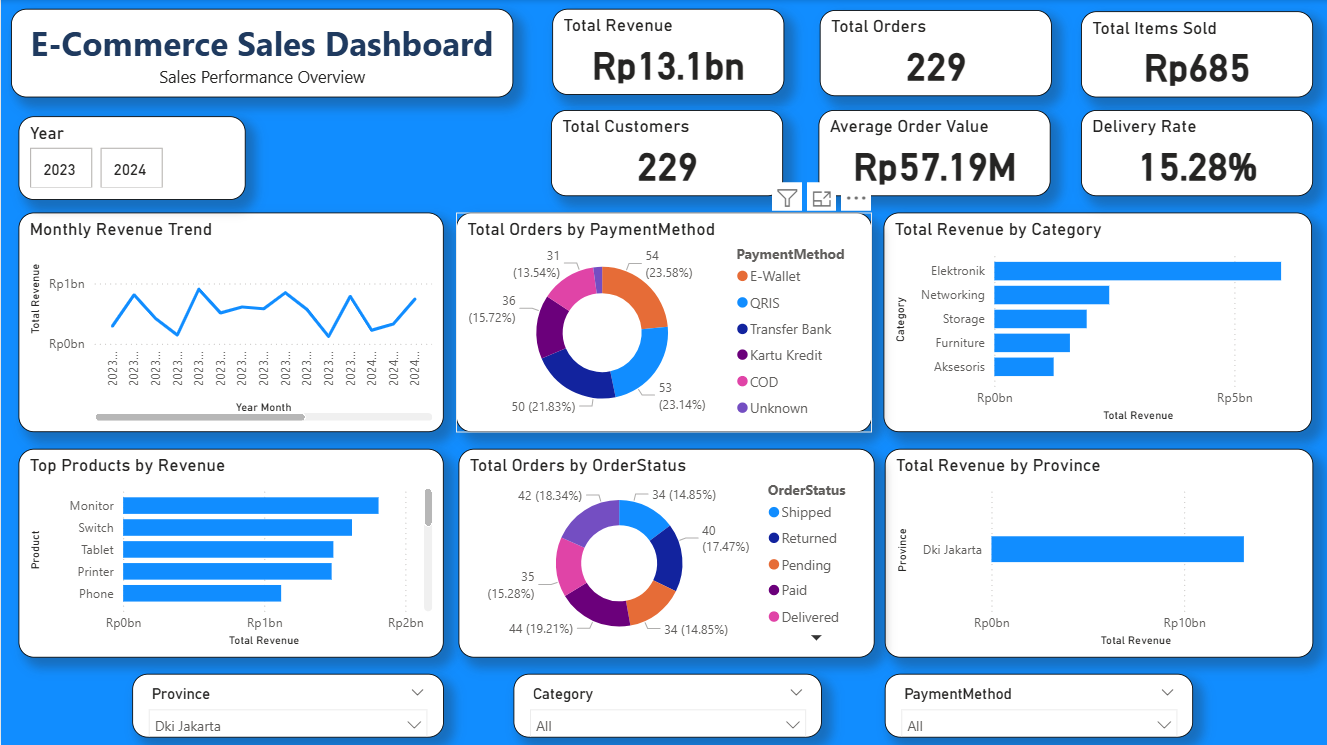

Layout of this report page (visuals, bound fields, positions):
{"tool":"powerbi","page":{"name":"ESD","canvas":[1280,720],"ordinal":0},"visuals":[{"type":"textbox","box":[9.7,8.4,485,85.7],"z":0},{"type":"card","title":"Total Revenue","fields":{"Values":["Sales.Total Revenue"]},"box":[531.8,8.7,224.4,83.2],"z":1000},{"type":"card","title":"Total Orders","fields":{"Values":["Sales.Total Orders"]},"box":[790,9.9,224.4,83.2],"z":2000},{"type":"card","title":"Total Items Sold","fields":{"Values":["Sales.Total Items Sold"]},"box":[1042.1,11.1,224.4,83.2],"z":3000},{"type":"card","title":"Total Customers","fields":{"Values":["Sales.Total Customers"]},"box":[531.3,105.9,224.4,83.2],"z":4000},{"type":"card","title":"Average Order Value","fields":{"Values":["Sales.Average Order Value"]},"box":[789.5,105.9,224.4,83.2],"z":5000},{"type":"lineChart","title":"Monthly Revenue Trend","fields":{"Y":["Sales.Total Revenue"],"Category":["Dim_Date.Year Month"]},"box":[16.9,205.1,410.2,212.3],"z":6000},{"type":"clusteredBarChart","fields":{"Category":["Sales.Category"],"Y":["Sales.Total Revenue"]},"box":[851.7,205.1,413.8,212.3],"z":7000},{"type":"clusteredBarChart","title":"Top Products by Revenue","fields":{"Category":["Sales.Product"],"Y":["Sales.Total Revenue"]},"box":[16.9,433.1,410.2,201.5],"z":8000},{"type":"clusteredBarChart","fields":{"Category":["Sales.Province"],"Y":["Sales.Total Revenue"]},"box":[853,433.1,413.8,201.5],"z":9000},{"type":"donutChart","fields":{"Category":["Sales.PaymentMethod"],"Y":["Sales.Total Orders"]},"box":[439.1,205.1,401.7,212.3],"z":10000},{"type":"donutChart","fields":{"Category":["Sales.OrderStatus"],"Y":["Sales.Total Orders"]},"box":[441.6,433.1,401.7,201.5],"z":11000},{"type":"card","title":"Delivery Rate","fields":{"Values":["Sales.Delivery Rate"]},"box":[1042.1,106.4,224.4,83.2],"z":12000},{"type":"advancedSlicerVisual","fields":{"Values":["Dim_Date.Year"]},"box":[16.9,112.2,219.6,80.8],"z":13000},{"type":"slicer","fields":{"Values":["Sales.Province"]},"box":[126.7,650.3,300.4,61.5],"z":14000},{"type":"slicer","fields":{"Values":["Sales.Category"]},"box":[494.6,650.3,298,61.5],"z":15000},{"type":"slicer","fields":{"Values":["Sales.PaymentMethod"]},"box":[853,650.3,298,61.5],"z":16000}]}

Visuals, with their boxes in screenshot pixels (x1, y1, x2, y2), scaled from the page's 1280x720 canvas onto the 1327x745 screenshot:
textbox: 10, 9, 513, 97
"Total Revenue" card: 551, 9, 784, 95
"Total Orders" card: 819, 10, 1052, 96
"Total Items Sold" card: 1080, 11, 1313, 98
"Total Customers" card: 551, 110, 783, 196
"Average Order Value" card: 818, 110, 1051, 196
"Monthly Revenue Trend" lineChart: 18, 212, 443, 432
clusteredBarChart - Sales.Category x Sales.Total Revenue: 883, 212, 1312, 432
"Top Products by Revenue" clusteredBarChart: 18, 448, 443, 657
clusteredBarChart - Sales.Province x Sales.Total Revenue: 884, 448, 1313, 657
donutChart - Sales.PaymentMethod x Sales.Total Orders: 455, 212, 872, 432
donutChart - Sales.OrderStatus x Sales.Total Orders: 458, 448, 874, 657
"Delivery Rate" card: 1080, 110, 1313, 196
advancedSlicerVisual - Dim_Date.Year: 18, 116, 245, 200
slicer - Sales.Province: 131, 673, 443, 737
slicer - Sales.Category: 513, 673, 822, 737
slicer - Sales.PaymentMethod: 884, 673, 1193, 737
